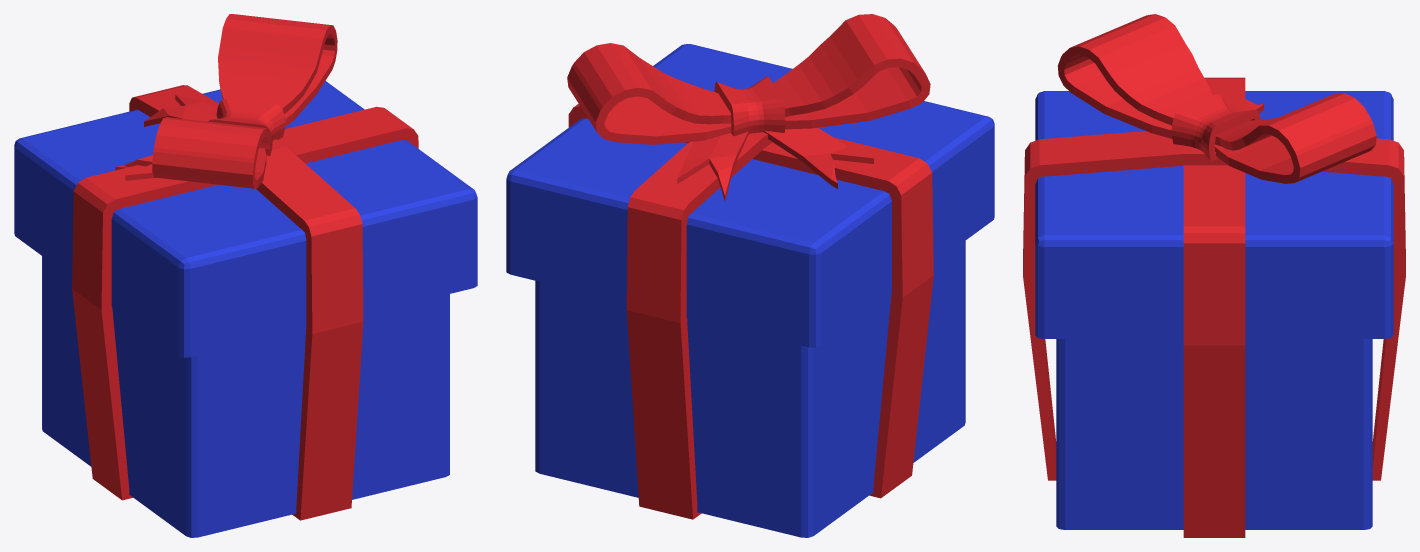
File: GiftBox.fbx
The picture shows the model from 3 angles, left to right: view 1: azimuth 30°, elevation 25°; view 2: azimuth 150°, elevation 25°; view 3: azimuth 270°, elevation 25°; orthographic projection. The views are drawn at different scales.
Parts seen in each view (by area): view 1: Cube, Plane, Plane.007, Plane.001; view 2: Cube, Plane.007, Plane, Plane.001; view 3: Cube, Plane.007, Plane.001, Plane.
Boxes of the visible parts, left/top/right/bottom form: Cube: left=14, top=81, right=477, bottom=537; Plane: left=129, top=85, right=363, bottom=520; Plane.007: left=115, top=14, right=337, bottom=188; Plane.001: left=72, top=106, right=418, bottom=500; Cube: left=506, top=44, right=994, bottom=537; Plane.007: left=567, top=14, right=930, bottom=201; Plane: left=626, top=132, right=772, bottom=519; Plane.001: left=568, top=96, right=933, bottom=498; Cube: left=1035, top=91, right=1393, bottom=529; Plane.007: left=1057, top=14, right=1376, bottom=183; Plane.001: left=1183, top=77, right=1245, bottom=537; Plane: left=1023, top=131, right=1405, bottom=480.
Size of the model in its own units: 484 by 553 by 484.
